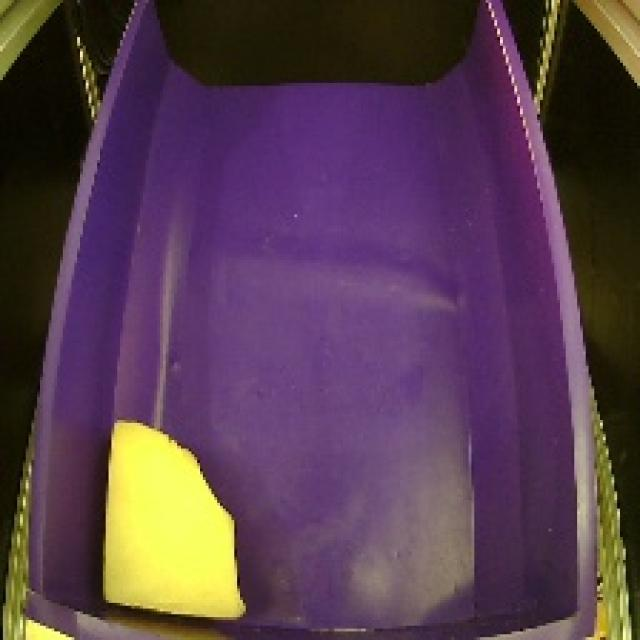potato: (90, 406, 259, 634)
